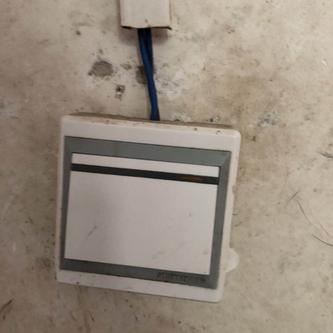switch: (60, 142, 219, 281)
